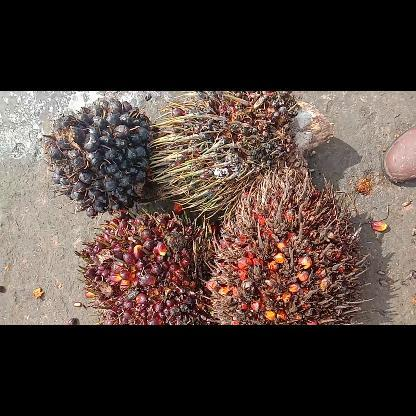TBS abnormal: (156, 92, 336, 212)
TBS masak: (78, 210, 210, 324)
TBS mentah: (42, 100, 154, 218)
Terlalu masak: (206, 166, 368, 324)
